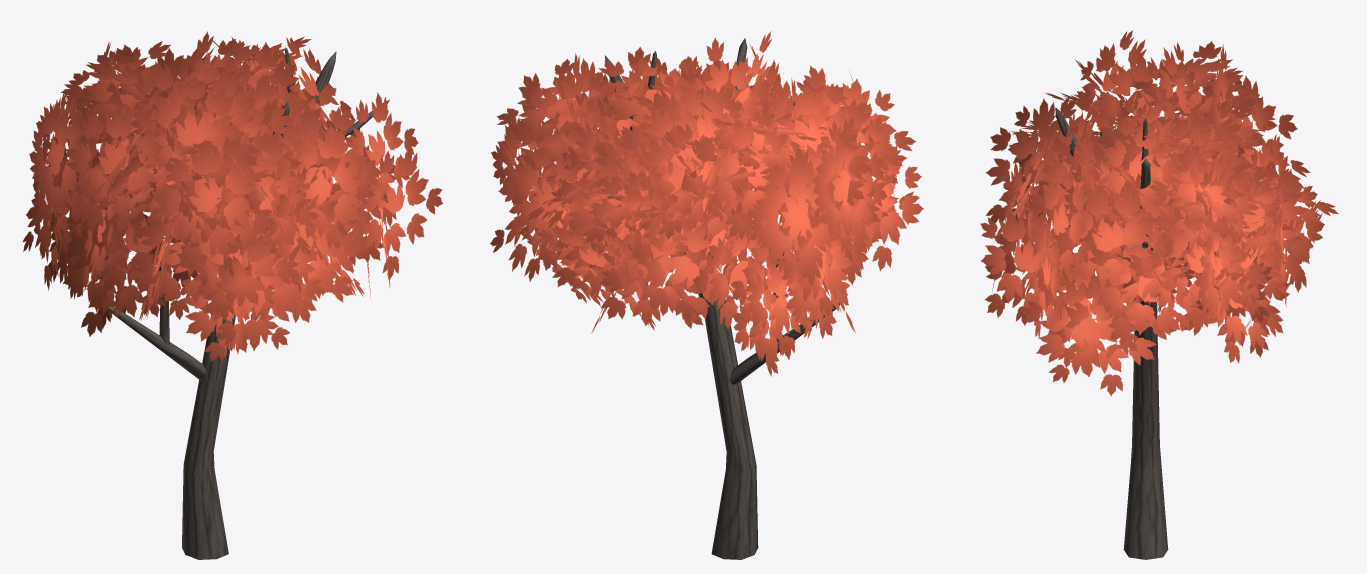
The model's file is maple-trees-2.glb.
The picture shows the model from 3 angles, left to right: view 1: azimuth 30°, elevation 25°; view 2: azimuth 150°, elevation 25°; view 3: azimuth 270°, elevation 25°; orthographic projection. The views are drawn at different scales.
Parts seen in each view (by area): view 1: MapleTree_4; view 2: MapleTree_4; view 3: MapleTree_4.
Boxes of the visible parts, <box> form: MapleTree_4: <box>22,31,442,559</box>; MapleTree_4: <box>490,31,923,559</box>; MapleTree_4: <box>980,30,1338,559</box>.
Bounding box in the file's own units: 2.77 × 3.59 × 2.44.
Materials: 2 (2 with a texture image).
